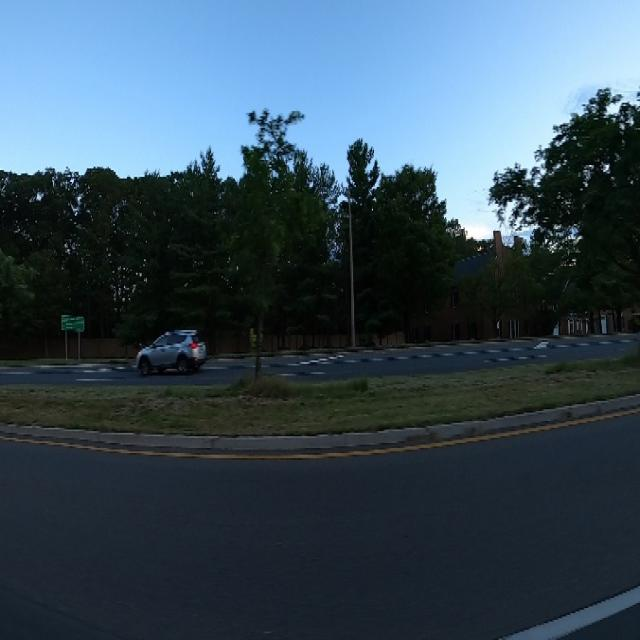cars: (128, 323, 208, 375)
